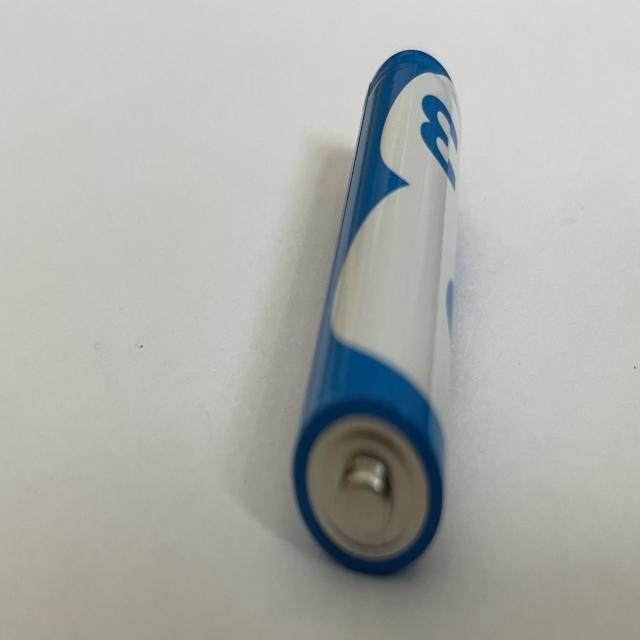AA: (292, 48, 463, 580)
